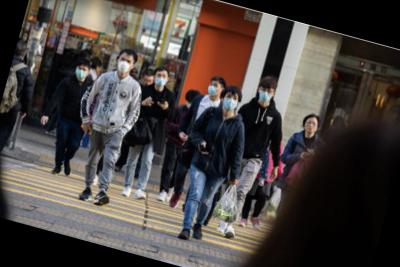with_mask: (115, 55, 134, 75), (221, 91, 239, 111), (205, 80, 223, 99), (256, 85, 274, 103), (153, 71, 170, 88), (73, 64, 88, 81)
without_mask: (303, 118, 319, 134), (140, 75, 155, 88)
